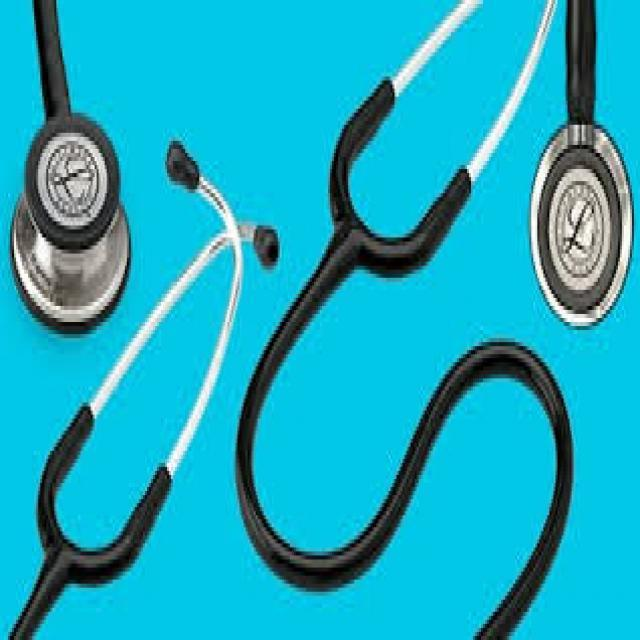stethoscope: (14, 68, 617, 542)
